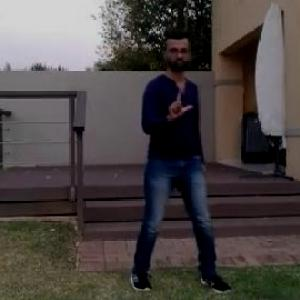land_hand: (161, 82, 197, 127)
